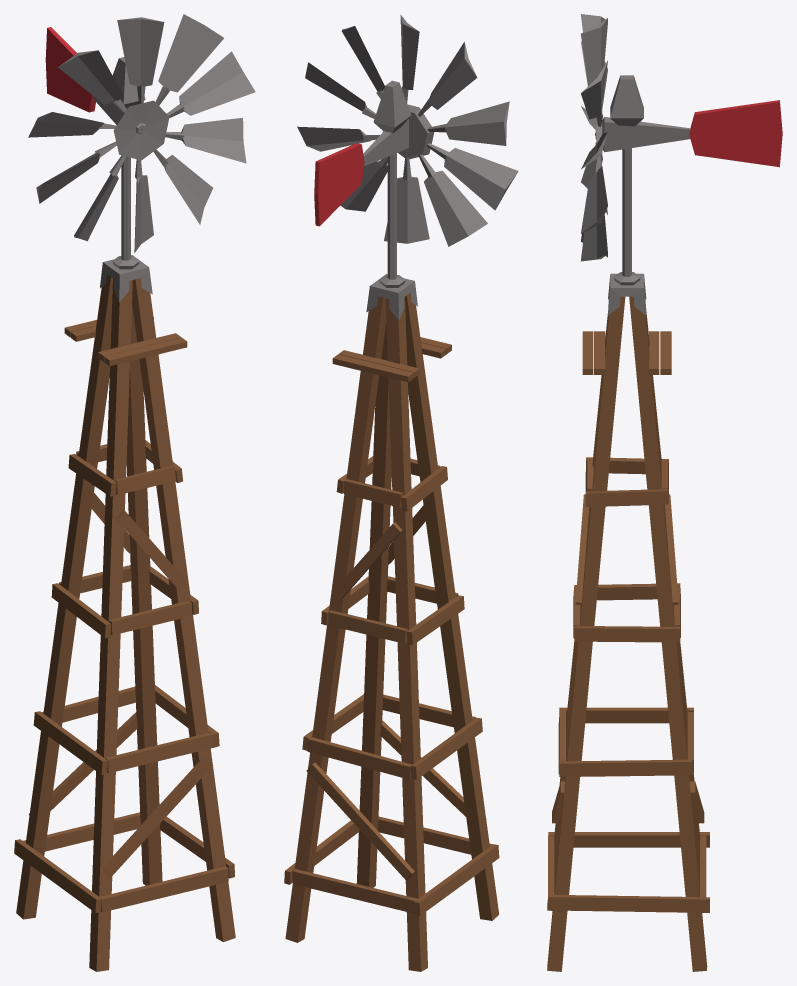
The model's file is western_windmill-western.fbx.
3 views of the same model, side by side, from view 1: azimuth 30°, elevation 25°; view 2: azimuth 150°, elevation 25°; view 3: azimuth 270°, elevation 25° (orthographic). The views are drawn at different scales.
Visible parts, largest first — view 1: windmill_western_base, windmill_western_propeller, windmill_westen_tail; view 2: windmill_western_base, windmill_western_propeller, windmill_westen_tail; view 3: windmill_western_base, windmill_westen_tail, windmill_western_propeller.
Part boxes in pixels (x1,y1,x2,y2): windmill_western_base: [14, 255, 235, 971]; windmill_western_propeller: [28, 14, 255, 252]; windmill_westen_tail: [45, 27, 145, 269]; windmill_western_base: [284, 274, 499, 971]; windmill_western_propeller: [297, 14, 518, 246]; windmill_westen_tail: [314, 80, 411, 287]; windmill_western_base: [547, 273, 709, 971]; windmill_westen_tail: [595, 75, 782, 285]; windmill_western_propeller: [580, 14, 607, 261].
Bounding box in the file's own units: 48.91 × 200 × 46.69.
